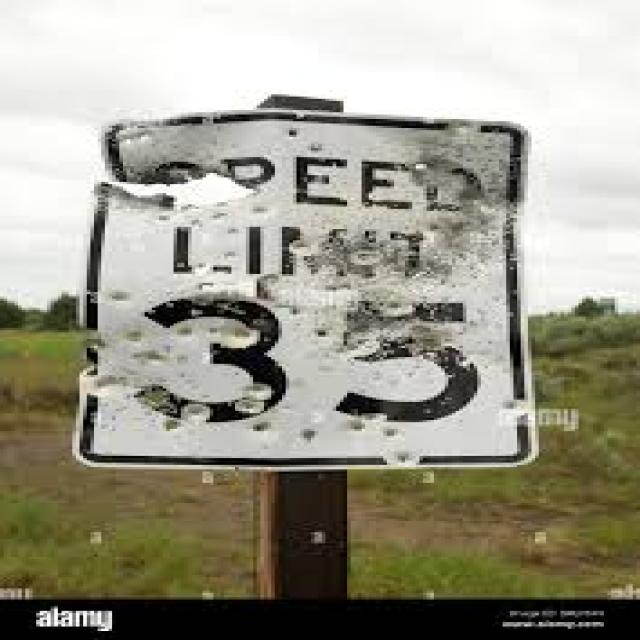speedLimit35: (99, 106, 537, 470)
